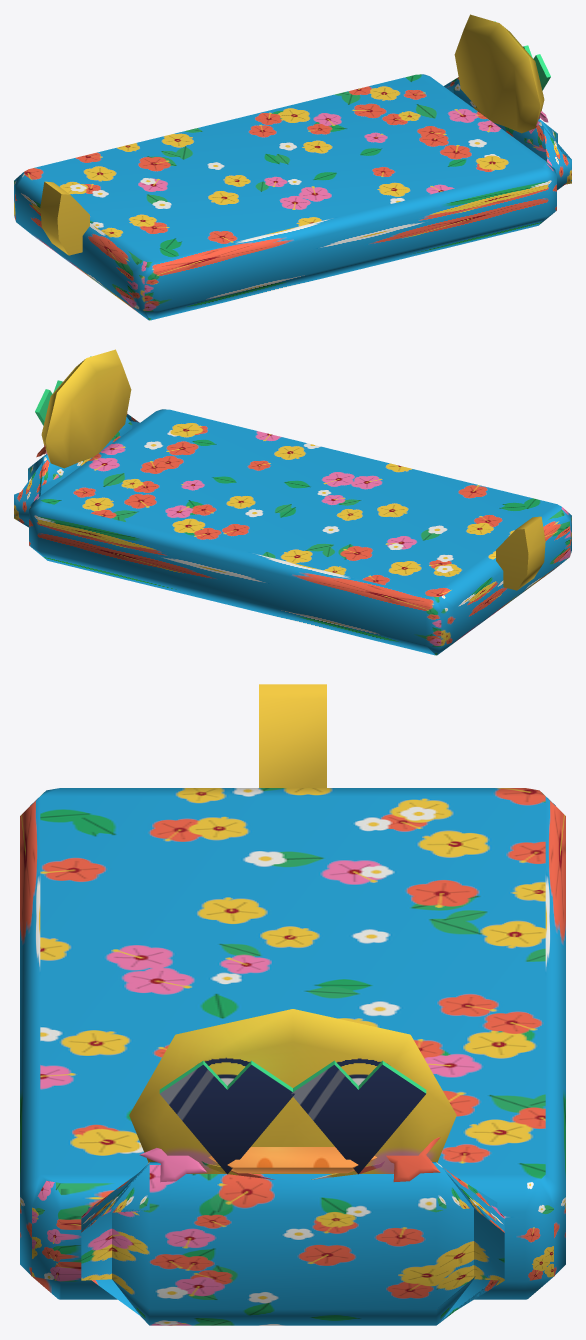
File: pool_duck_lilo_hawaii_lod1.glb
3 renders of one model, top to bottom at view 1: azimuth 30°, elevation 25°; view 2: azimuth 150°, elevation 25°; view 3: azimuth 270°, elevation 25°, orthographic. The views are drawn at different scales.
Visible parts, largest first — view 1: pool_duck_lilo_hawaii_LOD1; view 2: pool_duck_lilo_hawaii_LOD1; view 3: pool_duck_lilo_hawaii_LOD1.
Boxes of the visible parts, left/top/right/bottom form: pool_duck_lilo_hawaii_LOD1: left=14, top=14, right=571, bottom=320; pool_duck_lilo_hawaii_LOD1: left=14, top=349, right=571, bottom=655; pool_duck_lilo_hawaii_LOD1: left=20, top=684, right=565, bottom=1325.
Size of the model in its own units: 16 by 5 by 8.
1 material, 1 textured.
